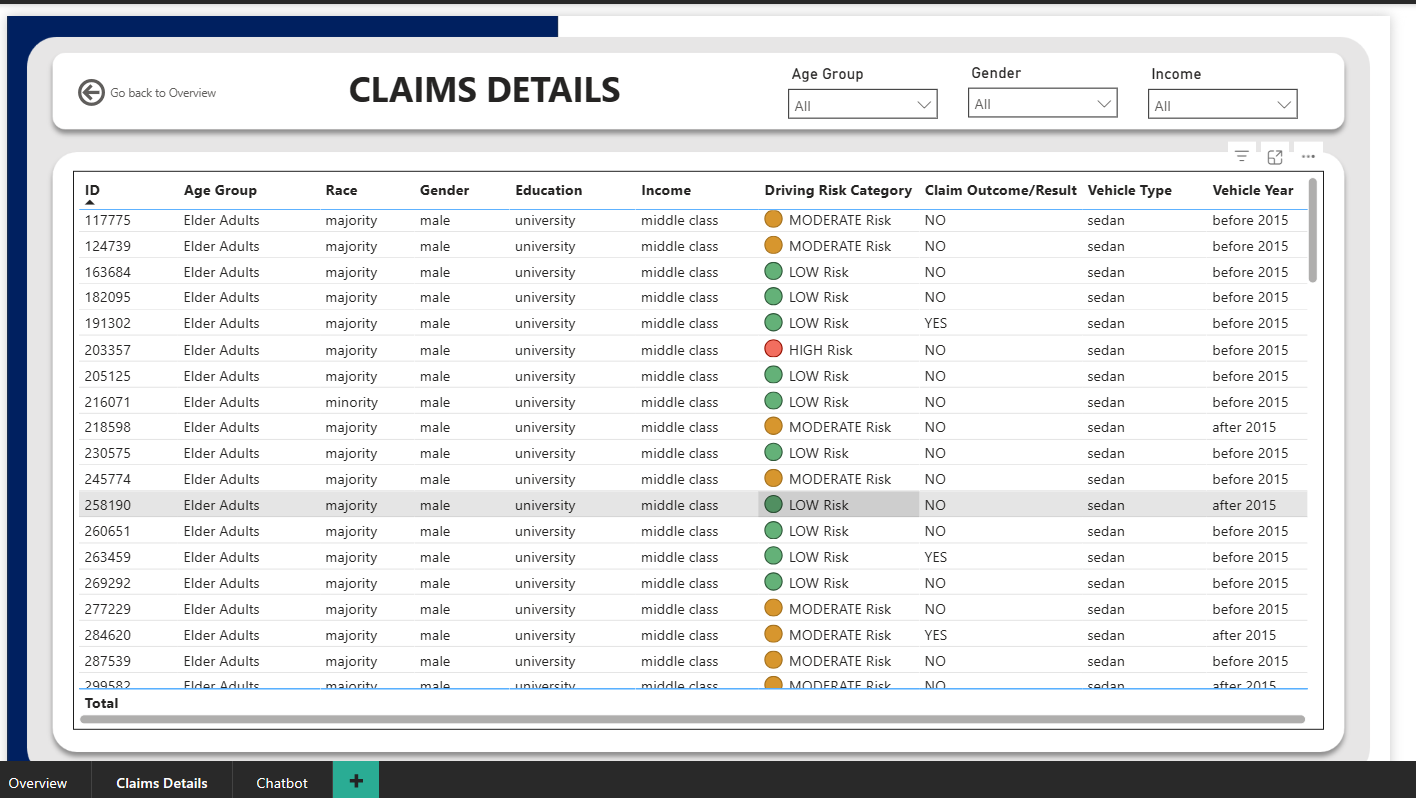

The page's visual inventory and layout, read from the dashboard file:
{"tool":"powerbi","page":{"name":"Claims Details","canvas":[1280,720],"ordinal":1},"visuals":[{"type":"textbox","box":[171.2,40,542.3,69.6],"z":0},{"type":"slicer","fields":{"Values":["Car_Insurance_Claim.Gender"]},"box":[880.2,38.8,158.7,62.8],"z":1000},{"type":"slicer","fields":{"Values":["Car_Insurance_Claim.Age Group"]},"box":[713.5,40,158.7,61.6],"z":2000},{"type":"slicer","fields":{"Values":["Car_Insurance_Claim.Income"]},"box":[1046.8,40,158.7,61.6],"z":3000},{"type":"tableEx","fields":{"Values":["Car_Insurance_Claim.ID","Car_Insurance_Claim.Age Group","Car_Insurance_Claim.Race","Car_Insurance_Claim.Gender","Car_Insurance_Claim.Education","Car_Insurance_Claim.Income","Car_Insurance_Claim.Driving Risk Category","Car_Insurance_Claim.Claim Outcome/Result","Car_Insurance_Claim.Vehicle Type","Car_Insurance_Claim.Vehicle Year"]},"box":[61.6,143.8,1157.6,517.1],"z":4000},{"type":"actionButton","box":[61.6,51.4,166.7,40],"z":5000}]}

Visuals, with their boxes in screenshot pixels (x1, y1, x2, y2), scaled from the page's 1280x720 canvas onto the 1416x798 screenshot:
textbox: [x1=189, y1=44, x2=789, y2=121]
slicer - Car_Insurance_Claim.Gender: [x1=974, y1=43, x2=1149, y2=113]
slicer - Car_Insurance_Claim.Age Group: [x1=789, y1=44, x2=965, y2=113]
slicer - Car_Insurance_Claim.Income: [x1=1158, y1=44, x2=1334, y2=113]
tableEx - Car_Insurance_Claim.ID x Car_Insurance_Claim.Age Group: [x1=68, y1=159, x2=1349, y2=732]
actionButton: [x1=68, y1=57, x2=253, y2=101]
